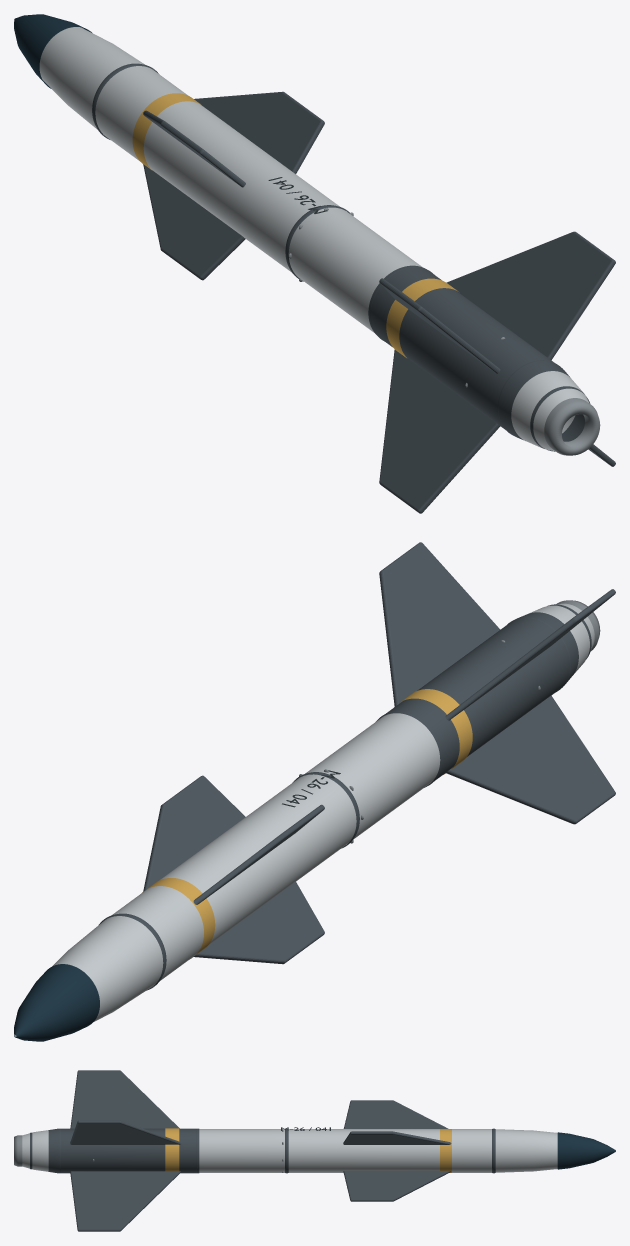
3 views of the same model, one above another, from view 1: azimuth 30°, elevation 25°; view 2: azimuth 150°, elevation 25°; view 3: azimuth 270°, elevation 25° (orthographic). The views are drawn at different scales.
Parts seen in each view (by area): view 1: M26_Machined_graphite_fins, M26_Satin_titanium_grey, M26_Identification_band, M26_Nozzle_and_fasteners, M26_Optical_ceramic_seeker; view 2: M26_Machined_graphite_fins, M26_Satin_titanium_grey, M26_Optical_ceramic_seeker, M26_Identification_band; view 3: M26_Machined_graphite_fins, M26_Satin_titanium_grey, M26_Optical_ceramic_seeker, M26_Identification_band, M26_Nozzle_and_fasteners.
Boxes of the visible parts, bbox=[...] form: M26_Machined_graphite_fins: bbox=[92, 63, 615, 513]; M26_Satin_titanium_grey: bbox=[39, 27, 589, 450]; M26_Identification_band: bbox=[132, 93, 458, 357]; M26_Nozzle_and_fasteners: bbox=[288, 207, 600, 455]; M26_Optical_ceramic_seeker: bbox=[14, 14, 91, 88]; M26_Machined_graphite_fins: bbox=[99, 542, 615, 990]; M26_Satin_titanium_grey: bbox=[15, 603, 594, 1036]; M26_Optical_ceramic_seeker: bbox=[14, 964, 99, 1041]; M26_Identification_band: bbox=[142, 689, 472, 958]; M26_Machined_graphite_fins: bbox=[30, 1070, 495, 1231]; M26_Satin_titanium_grey: bbox=[22, 1129, 557, 1172]; M26_Optical_ceramic_seeker: bbox=[557, 1132, 615, 1169]; M26_Identification_band: bbox=[165, 1128, 451, 1172]; M26_Nozzle_and_fasteners: bbox=[14, 1130, 283, 1172].
Bounding box in the file's own units: 0.614 × 0.614 × 3.02.
